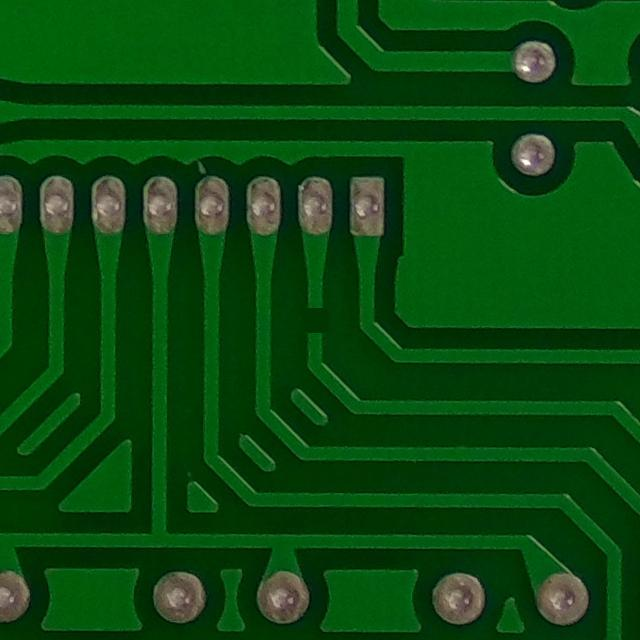open_circuit: (298, 295, 342, 345)
